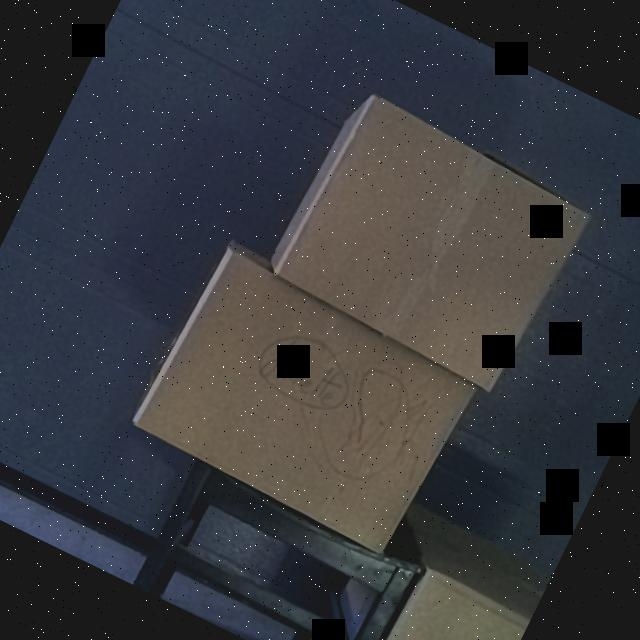box: (132, 242, 482, 556), (274, 101, 588, 389), (363, 564, 532, 640)
